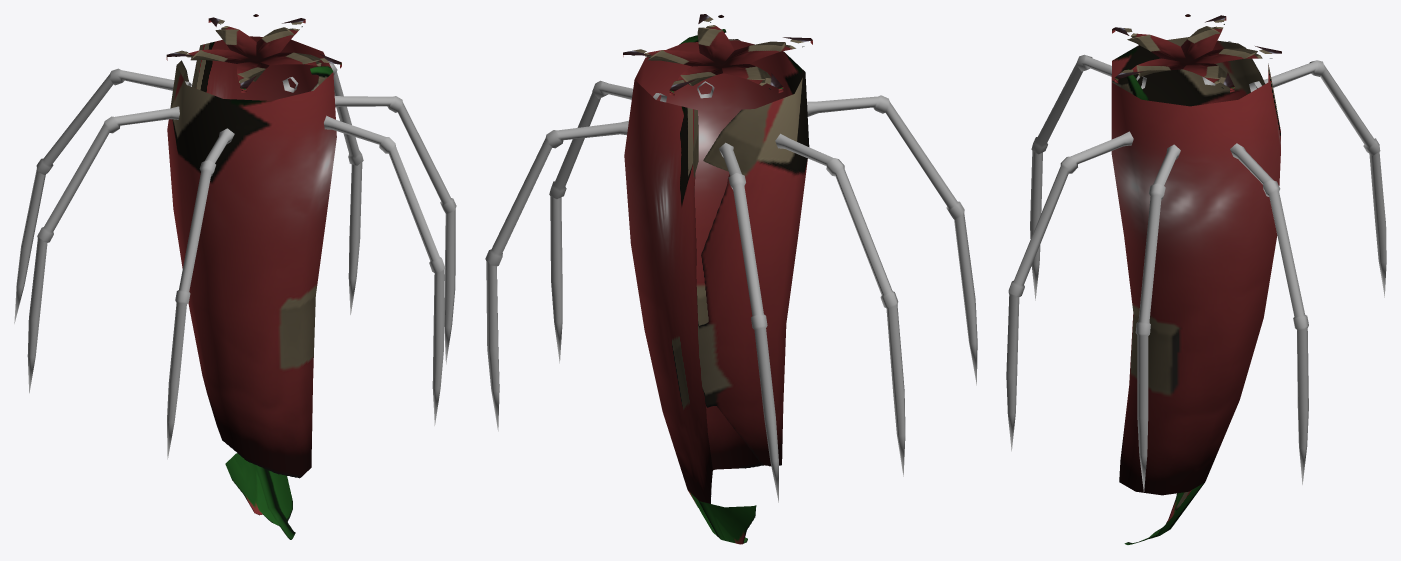
File: Food_Pepper_Full.fbx
3 renders of one model, left to right at view 1: azimuth 30°, elevation 25°; view 2: azimuth 150°, elevation 25°; view 3: azimuth 270°, elevation 25°, orthographic. The views are drawn at different scales.
Visible parts, largest first — view 1: Pepper_Full; view 2: Pepper_Full; view 3: Pepper_Full.
Boxes of the visible parts, x1,y1,x2,y2 form: Pepper_Full: (14, 14, 456, 539); Pepper_Full: (485, 14, 977, 544); Pepper_Full: (1006, 14, 1386, 544).
Bounding box in the file's own units: 31.72 × 41.08 × 26.56.
